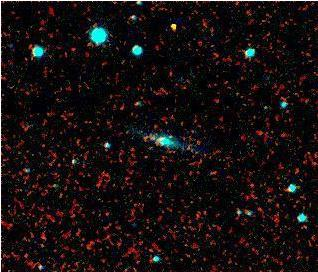star: (160, 15, 190, 45)
